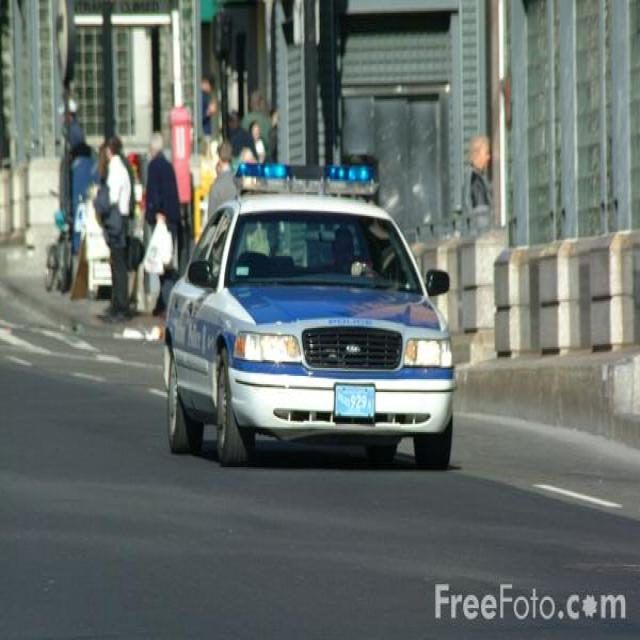Car: (159, 168, 455, 464)
